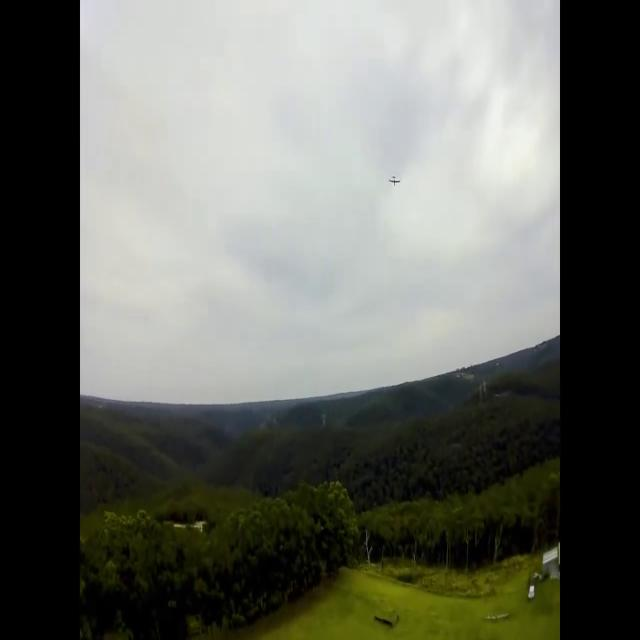iha: (385, 179, 392, 183)
